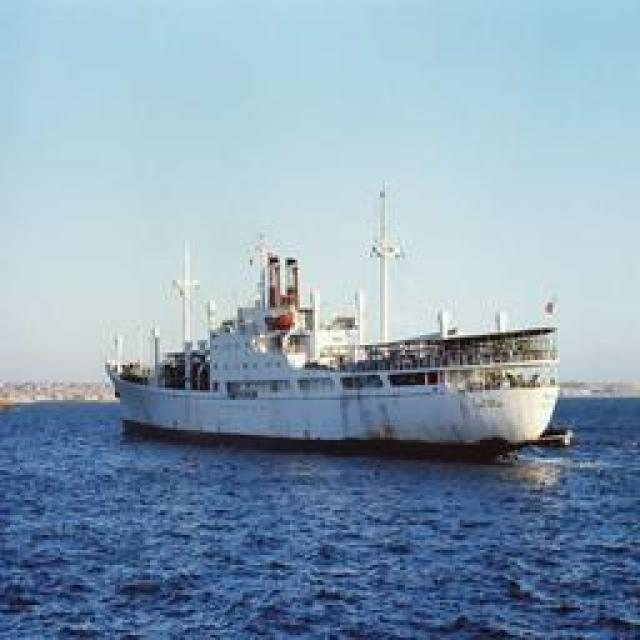ship2: (102, 187, 574, 449)
